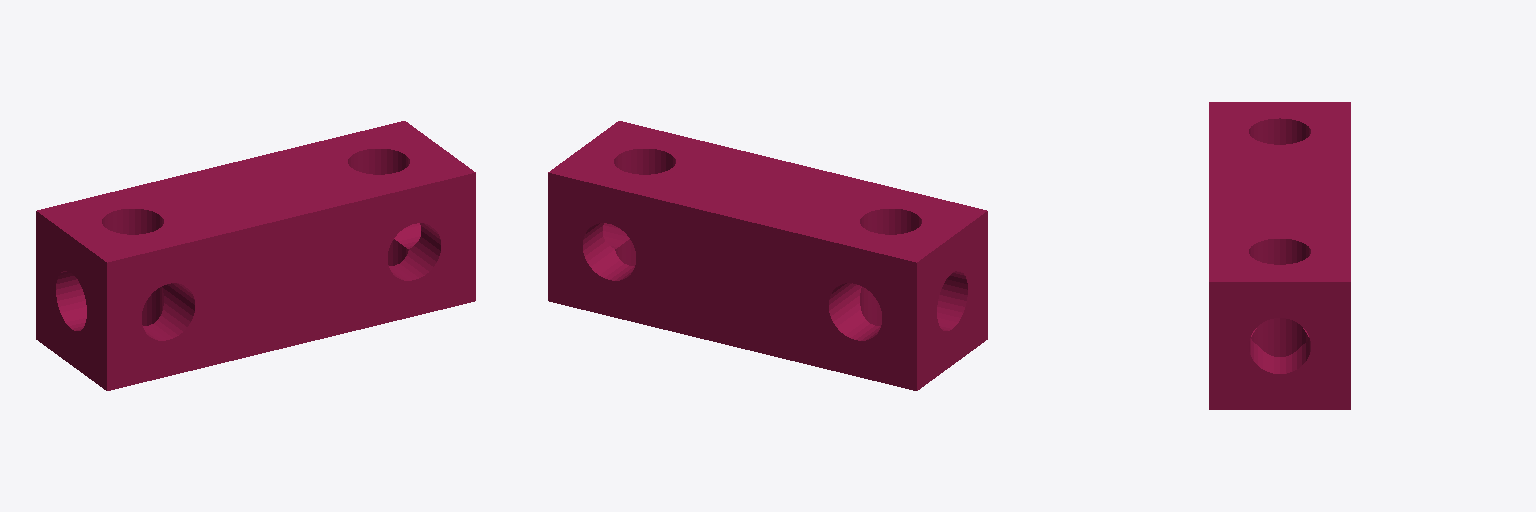
The model's file is HolzquaderS.obj.
The picture shows the model from 3 angles: view 1: azimuth 30°, elevation 25°; view 2: azimuth 150°, elevation 25°; view 3: azimuth 270°, elevation 25°; orthographic projection.
Visible parts, largest first — view 1: Holzquader_S_Cube.021; view 2: Holzquader_S_Cube.021; view 3: Holzquader_S_Cube.021.
Boxes of the visible parts, x1=… form: Holzquader_S_Cube.021: x1=36, y1=121, x2=475, y2=390; Holzquader_S_Cube.021: x1=548, y1=121, x2=987, y2=390; Holzquader_S_Cube.021: x1=1209, y1=102, x2=1350, y2=409.
Bounding box in the file's own units: 1.6 × 0.5332 × 0.5332.